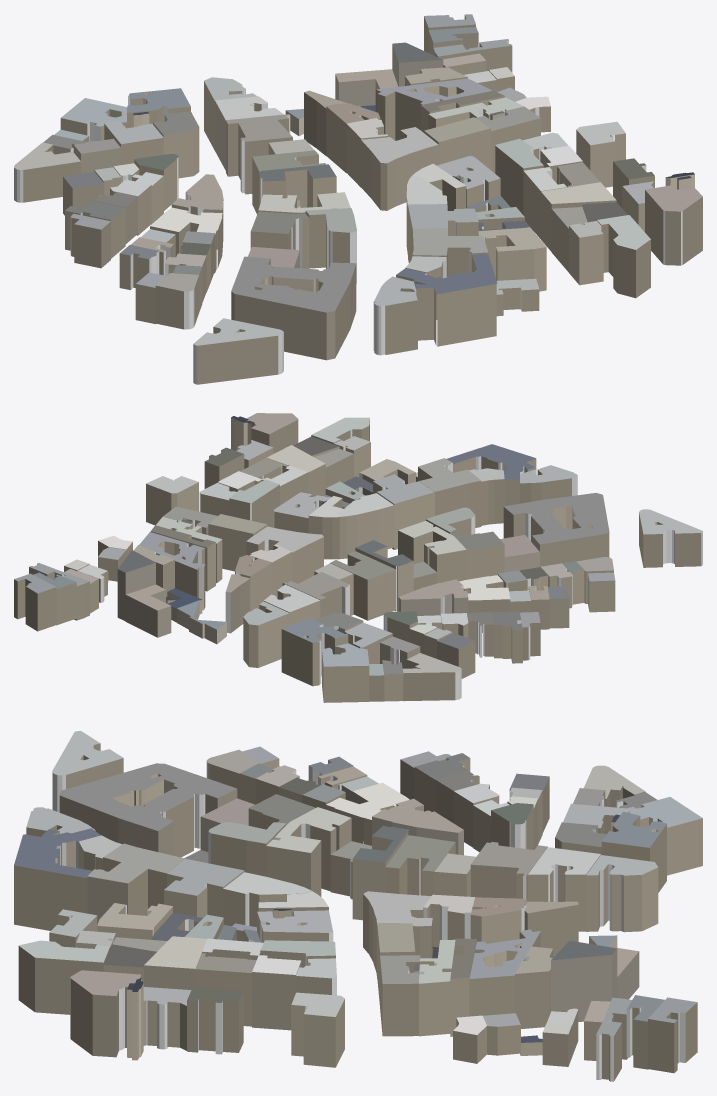
The picture shows the model from 3 angles, top to bottom: view 1: azimuth 30°, elevation 25°; view 2: azimuth 150°, elevation 25°; view 3: azimuth 270°, elevation 25°; orthographic projection. The views are drawn at different scales.
Parts seen in each view (by area): view 1: tuile; view 2: tuile; view 3: tuile.
Part boxes in pixels (<box>): tuile: <box>14,14,702,384</box>; tuile: <box>14,413,702,702</box>; tuile: <box>14,731,702,1081</box>.
Bounding box in the file's own units: 285 × 33.18 × 274.
